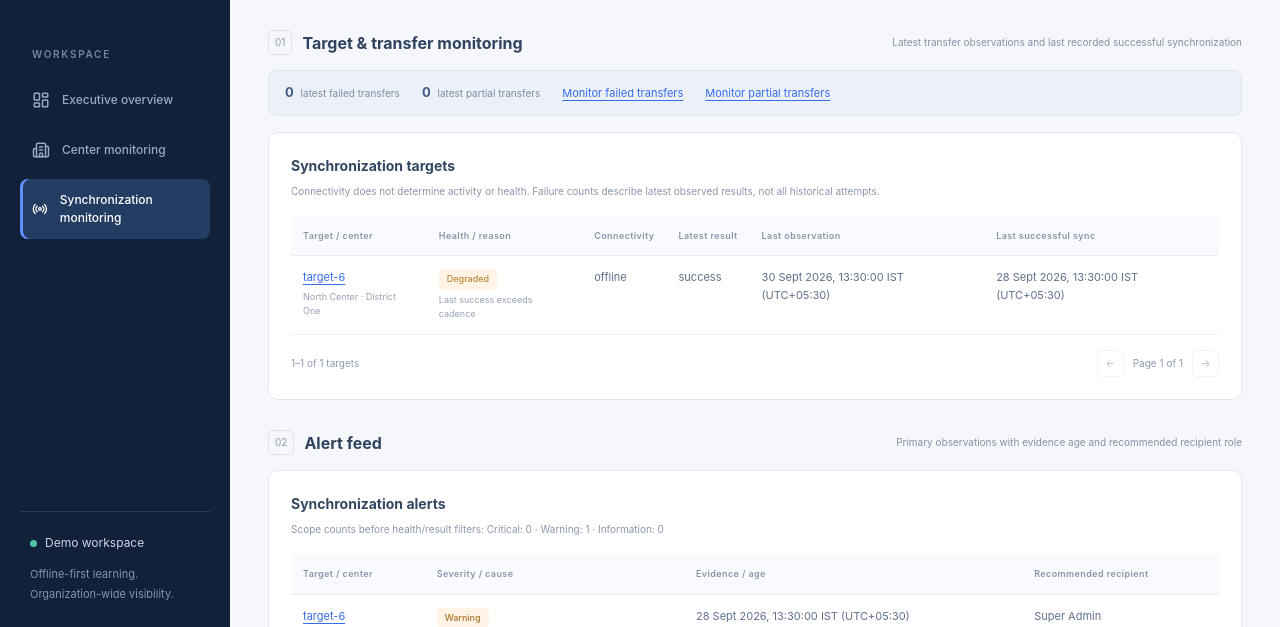
Scenario: synchronization dashboard user behavior › preserves filter context through target details and displays different complete timestamps
(page scrolled)
Click the link "target-6" in the row of "30 Sept 2026, 13:30:00 IST (UTC+05:30)".
click(324, 277)  # box [303,270,345,284]
(page scrolled)
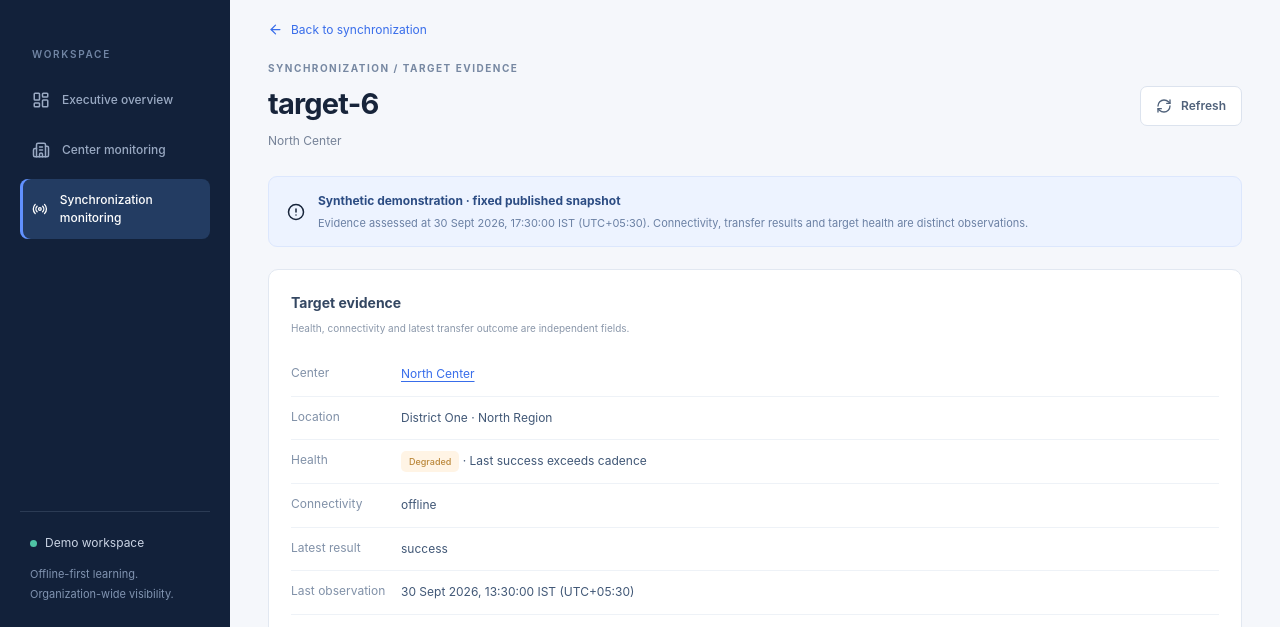
Expected: the text "30 Sept 2026, 13:30:00 IST (UTC+05:30)" is shown, [401,584,634,599]
Expected: the heading "Target evidence" is shown, [291,294,401,311]
Click the link "Back to synchronization".
click(347, 30)  # box [268,20,427,38]
(page scrolled)
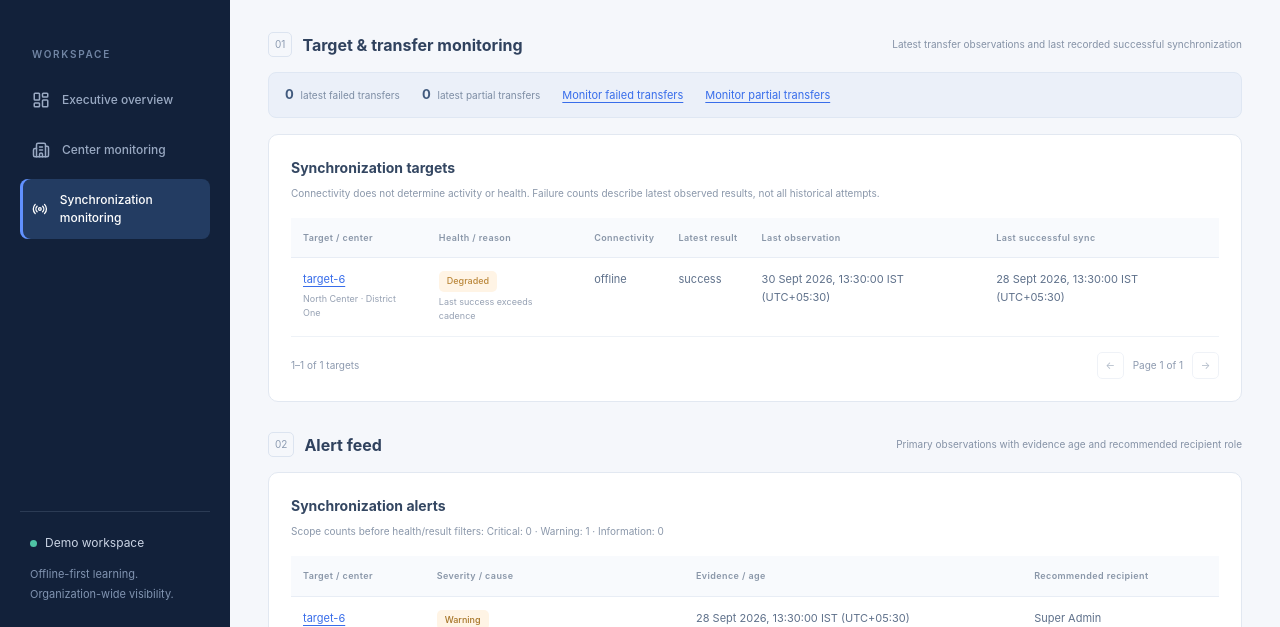
Expected: the table named "Synchronization target listing" is shown, [291,218,1219,338]
